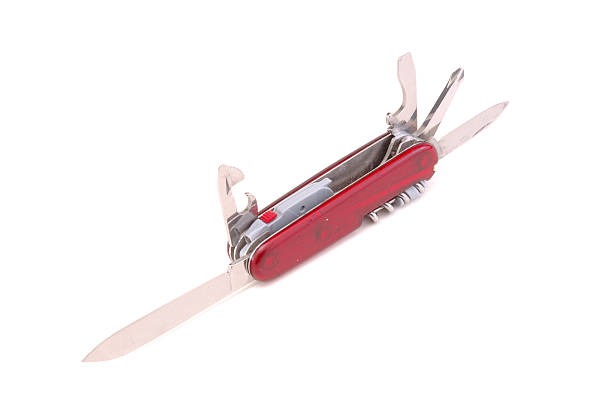knife: (80, 266, 236, 364), (436, 98, 512, 158), (214, 162, 259, 246), (381, 48, 418, 130)
